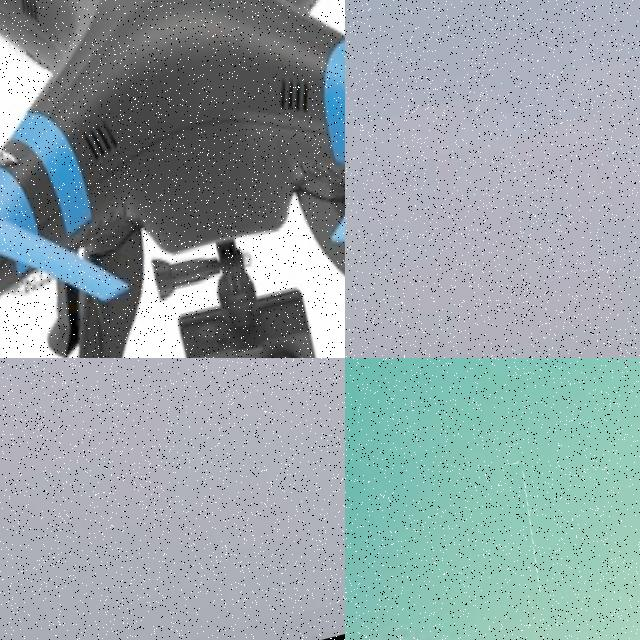drone: (0, 0, 345, 358), (345, 431, 623, 640)
